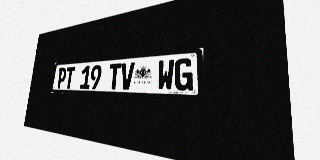1: (80, 65, 92, 89)
9: (89, 65, 102, 89)
G: (174, 58, 193, 91)
P: (56, 67, 67, 88)
T: (108, 63, 122, 89), (64, 67, 75, 89)
V: (120, 62, 135, 90)
W: (157, 59, 174, 90)
